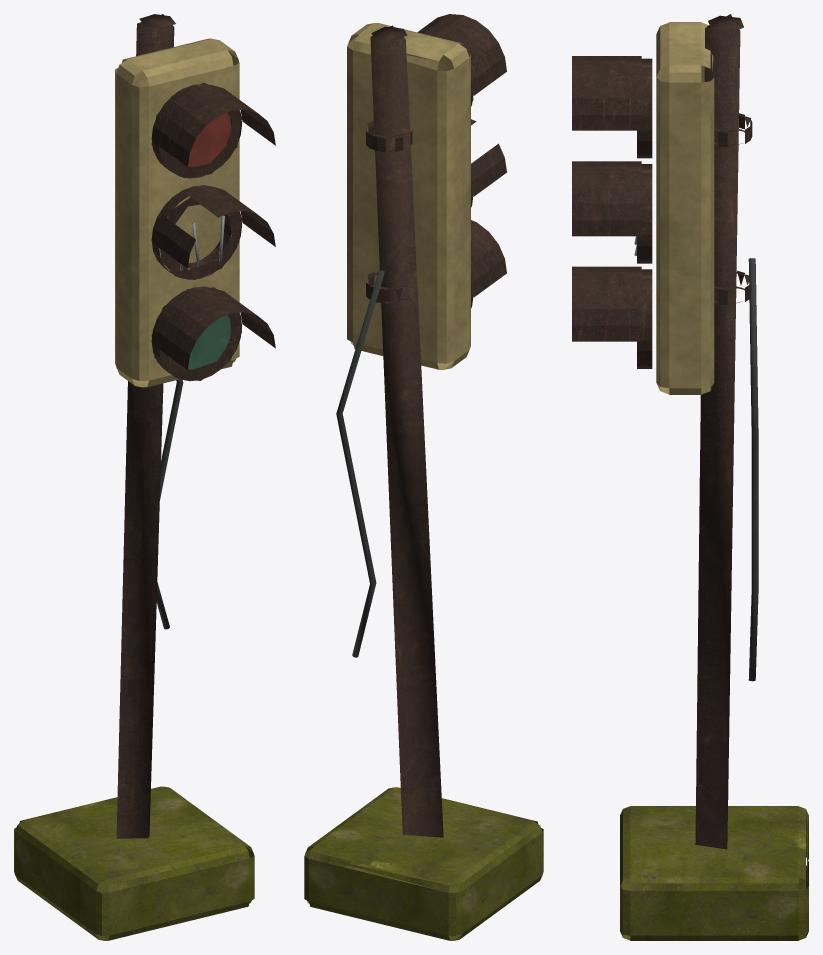
The model's file is lod1_NOT_APPROVED.glb.
3 views of the same model, side by side, from view 1: azimuth 30°, elevation 25°; view 2: azimuth 150°, elevation 25°; view 3: azimuth 270°, elevation 25° (orthographic). The views are drawn at different scales.
Visible parts, largest first — view 1: f3_oxidized_iron_surface, f3_damp_concrete_surface, f3_faded_safety_ochre_surface, f3_dead_signal_3.08_surface, f3_dead_signal_2.28_surface, f3_aged_rubber_surface; view 2: f3_oxidized_iron_surface, f3_faded_safety_ochre_surface, f3_damp_concrete_surface, f3_aged_rubber_surface; view 3: f3_oxidized_iron_surface, f3_damp_concrete_surface, f3_faded_safety_ochre_surface, f3_aged_rubber_surface.
Boxes of the visible parts, x1,y1,x2,y2 form: f3_oxidized_iron_surface: (116,14,275,838); f3_damp_concrete_surface: (14,786,254,940); f3_faded_safety_ochre_surface: (115,38,239,387); f3_dead_signal_3.08_surface: (172,112,231,166); f3_dead_signal_2.28_surface: (183,315,230,369); f3_aged_rubber_surface: (156,379,183,629); f3_oxidized_iron_surface: (366,14,506,837); f3_faded_safety_ochre_surface: (347,23,470,369); f3_damp_concrete_surface: (304,787,543,940); f3_aged_rubber_surface: (336,269,384,657); f3_oxidized_iron_surface: (572,14,752,849); f3_damp_concrete_surface: (620,806,808,940); f3_faded_safety_ochre_surface: (656,22,714,394); f3_aged_rubber_surface: (748,258,758,681).
Bounding box in the file's own units: 0.665 × 3.4 × 0.815.
Materials: 8 (8 with a texture image).
